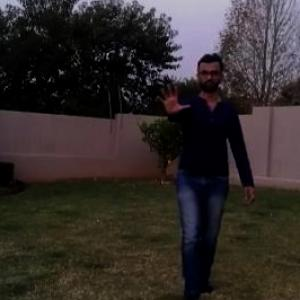follow_hand: (153, 79, 193, 118)
